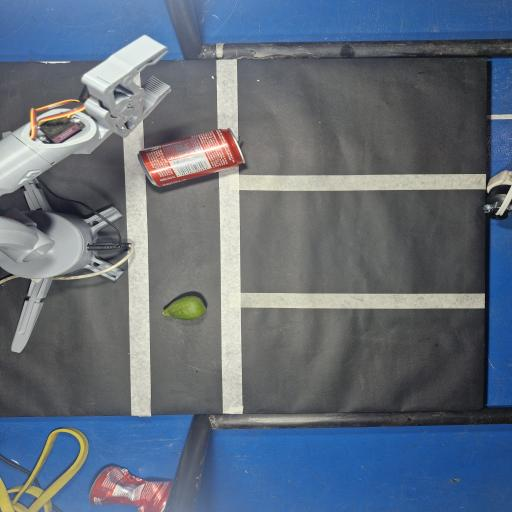higo: (163, 295, 206, 320)
lata: (141, 128, 245, 187)
